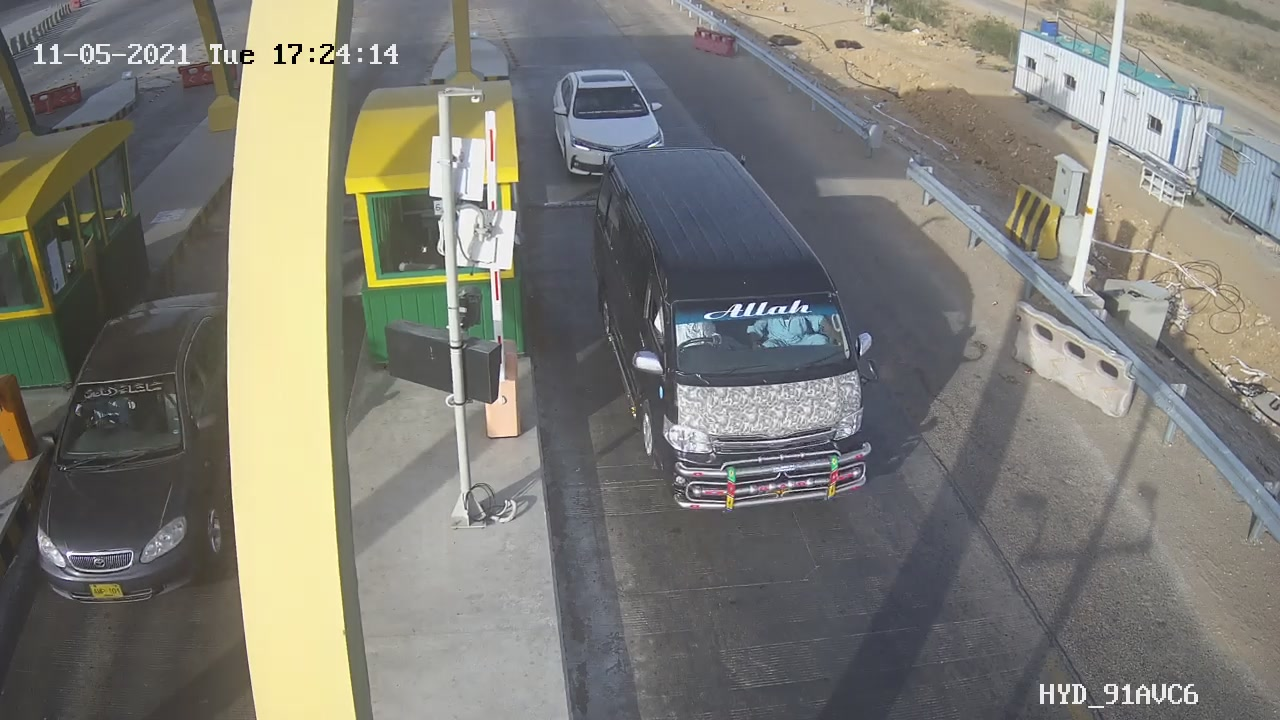F1: (539, 57, 681, 196)
